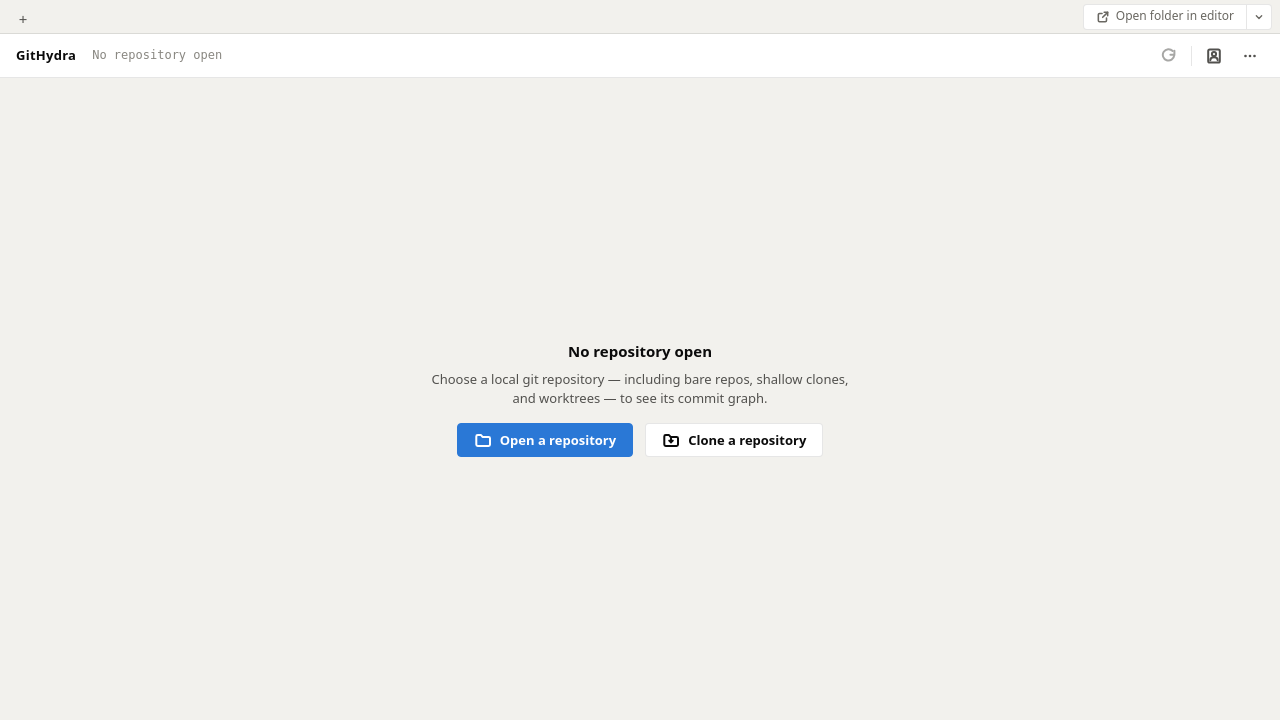
it: remember-last-selected-file (specs/remember-last-selected-file.md) › AC2: a non-first file selected in ChangesPanel's Unstaged section survives a switch away and back
Click the button "Open a repository" at (545, 440), box [457,423,633,457]
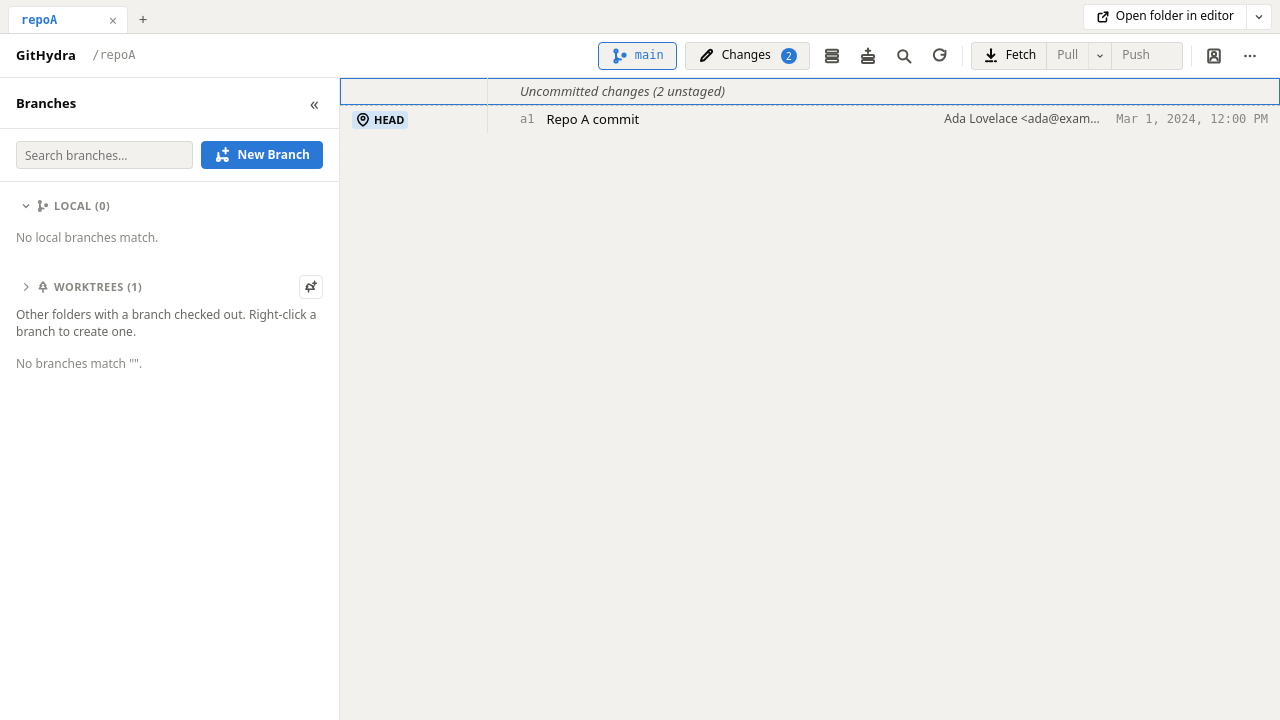
expect the text "Repo A commit" is shown: met, box [546,110,639,128]
Click the button "Changes 2" at (747, 56), box [685,42,810,70]
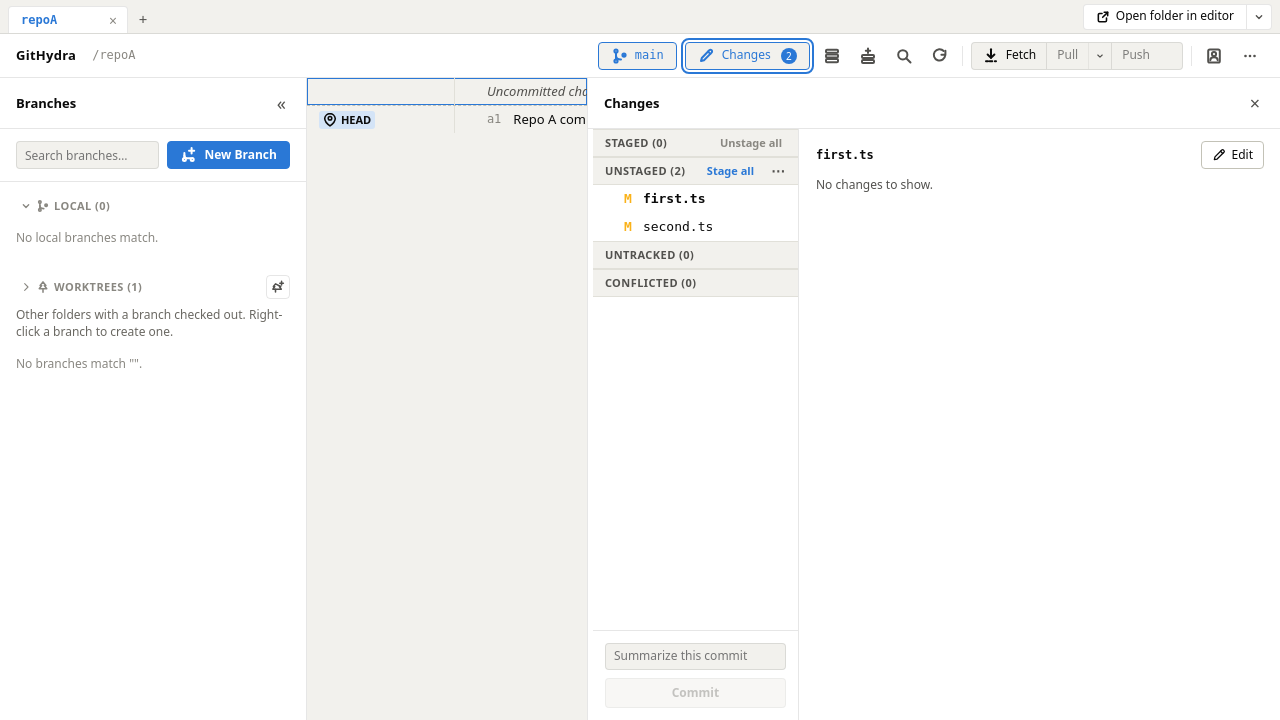
expect the button "M first.ts" is shown: met, box [593,185,790,213]
Click the button "M second.ts" at (691, 227), box [593,213,790,241]
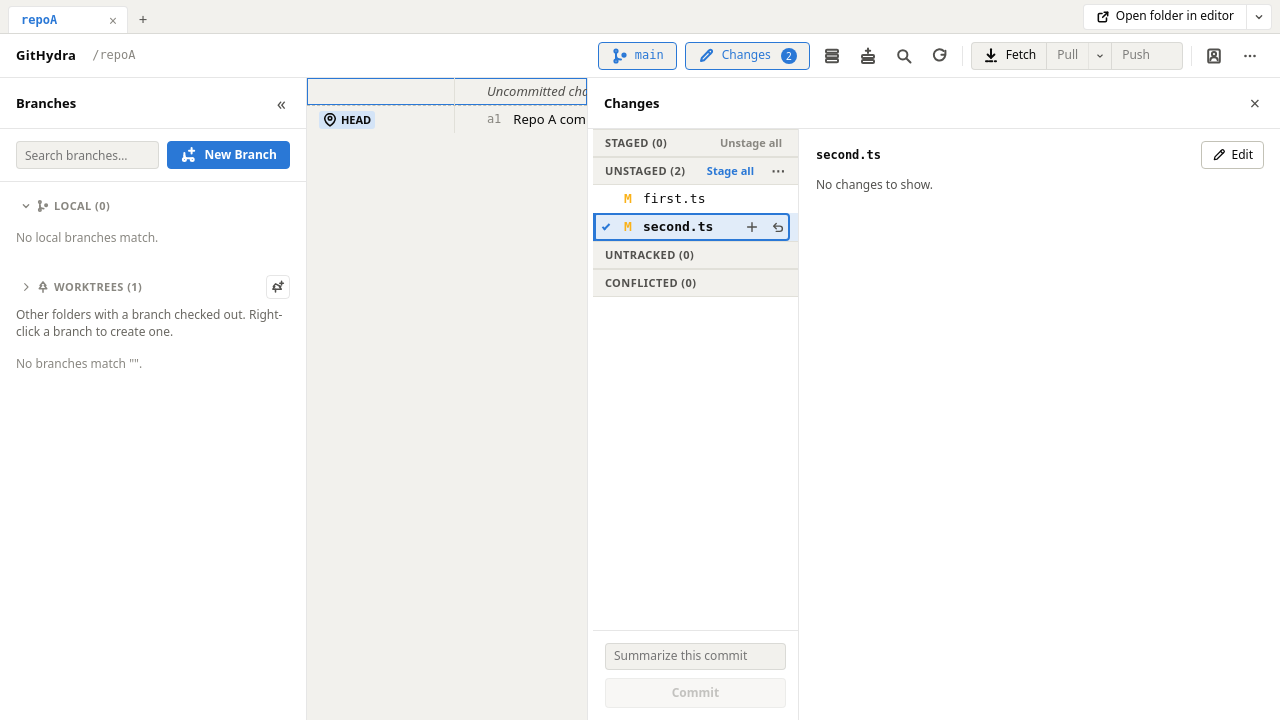
expect the button "M second.ts" is pressed: met, box [593,213,790,241]
Click the button named "open a repository in a new tab" at (143, 19), box [130,5,156,33]
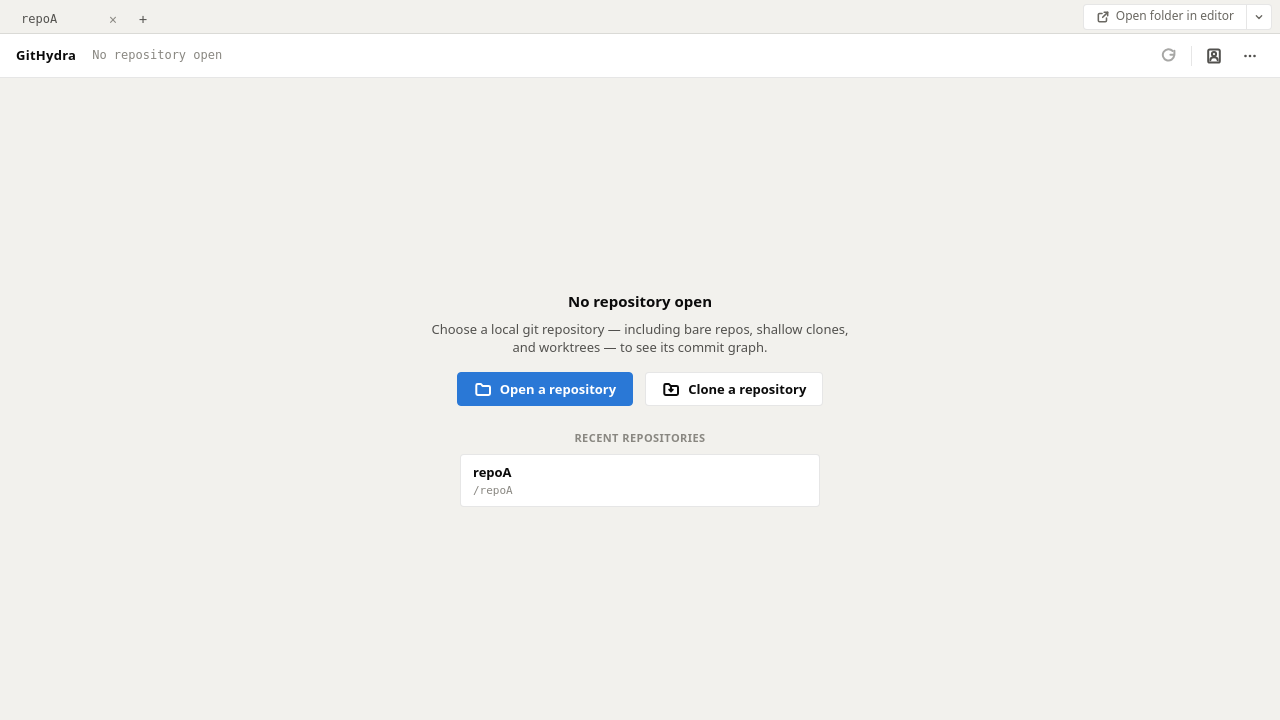
Click the button "Open a repository" at (545, 389), box [457,372,633,406]
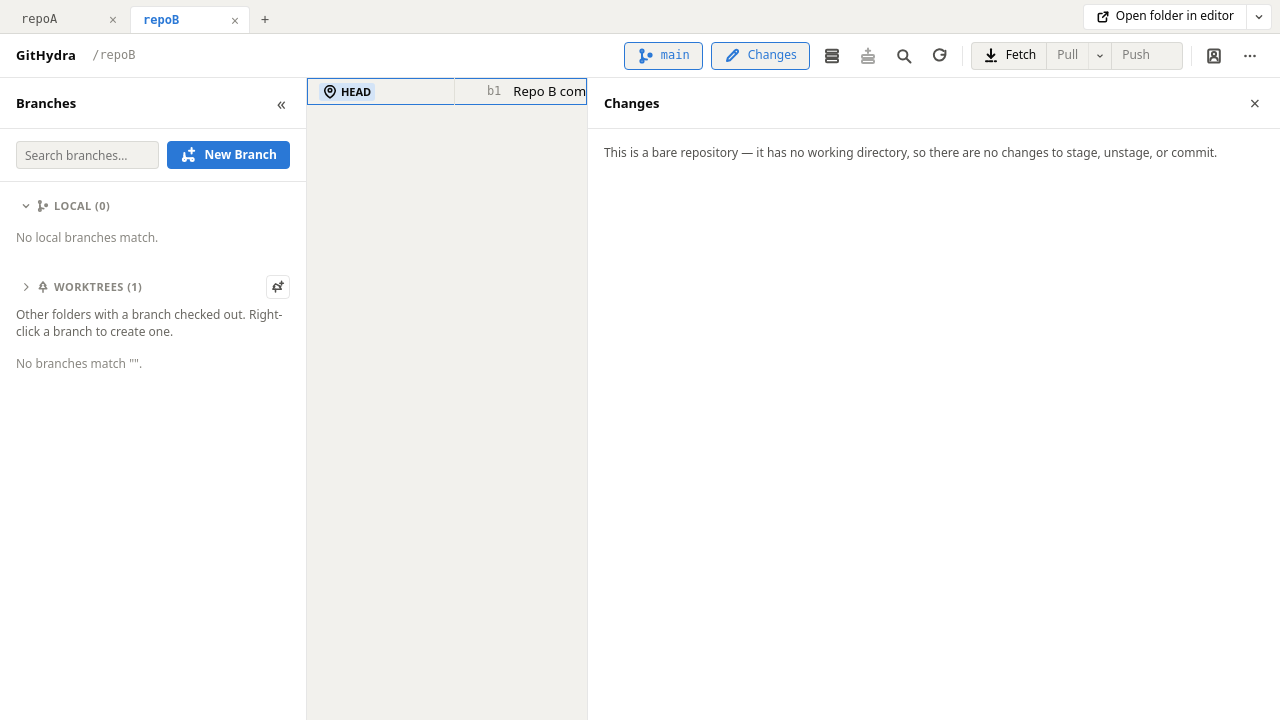
expect the text "Repo B commit" is shown: met, box [513,82,587,100]
Click the tab "repoA" at (60, 20), box [17,11,103,28]
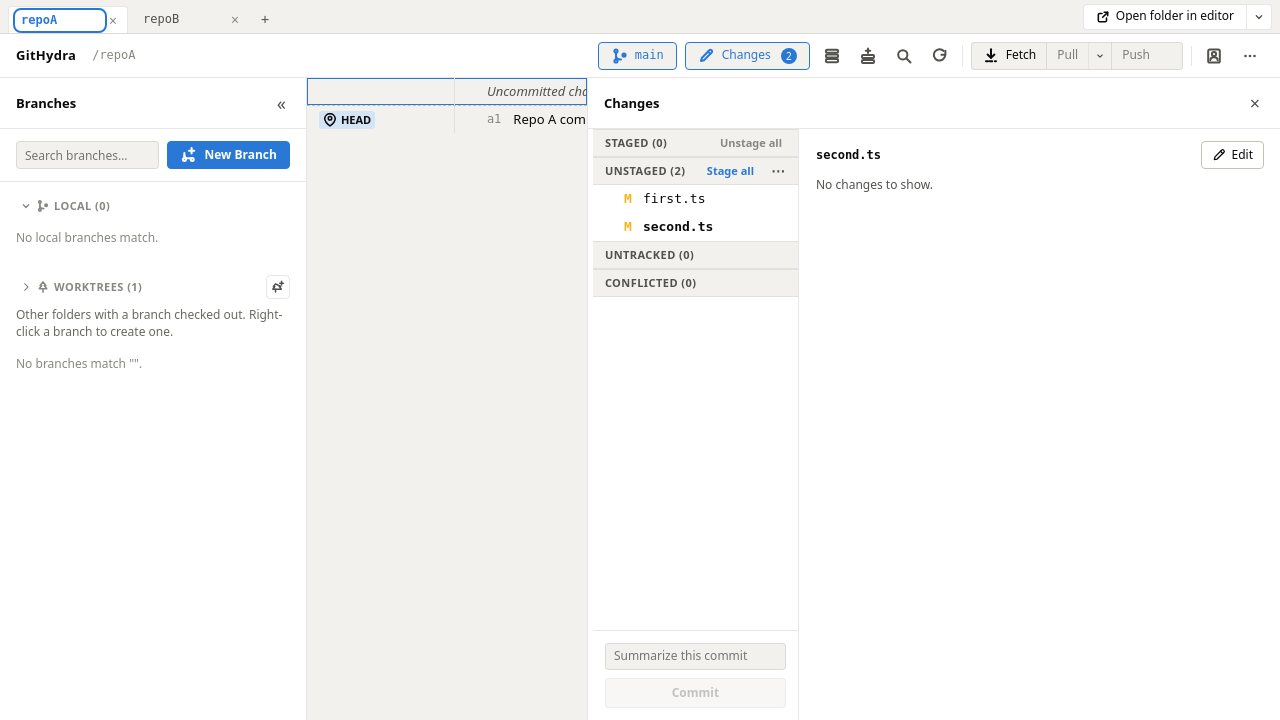
expect the text "Repo A commit" is shown: met, box [513,110,587,128]
